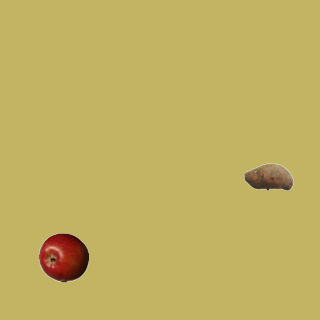Apple Braeburn: (38, 232, 88, 282)
Potato Sweet: (243, 151, 293, 201)
